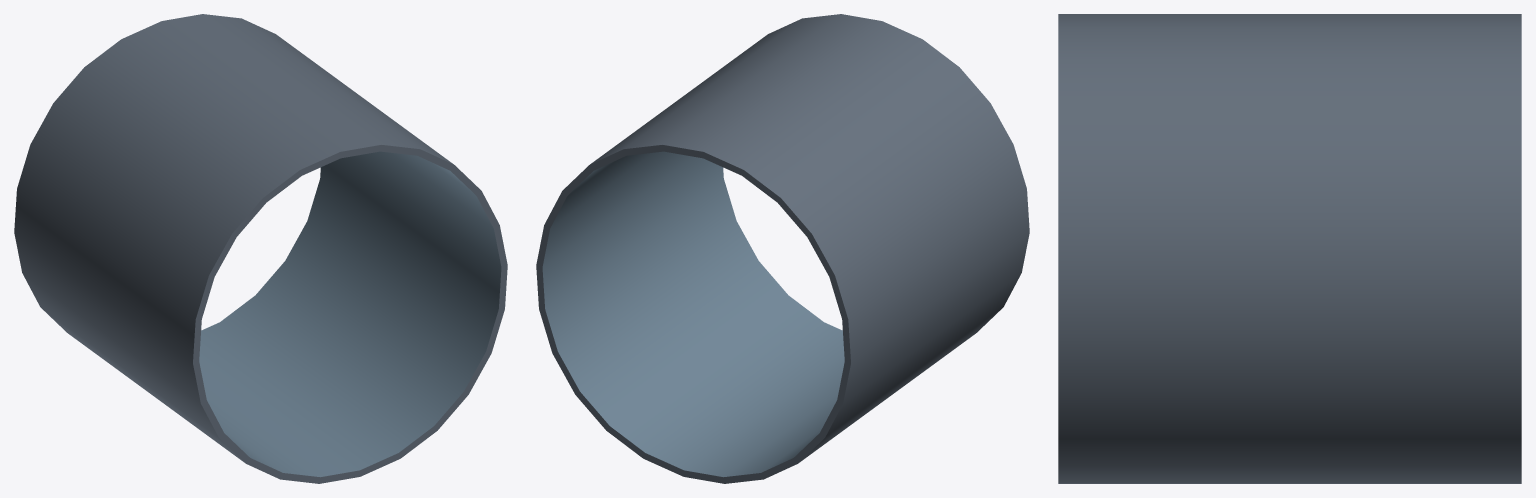
File: pipe.dae
3 renders of one model, left to right at view 1: azimuth 30°, elevation 25°; view 2: azimuth 150°, elevation 25°; view 3: azimuth 270°, elevation 25°, orthographic. The views are drawn at different scales.
Parts seen in each view (by area): view 1: group_0 (×2); view 2: group_0 (×2); view 3: group_0.
Boxes of the visible parts, x1,y1,x2,y2 form: group_0 (×2): (14,14,507,483); group_0 (×2): (536,14,1029,483); group_0: (1058,14,1521,483).
Size of the model in its own units: 39.29 by 38.62 by 39.33.
